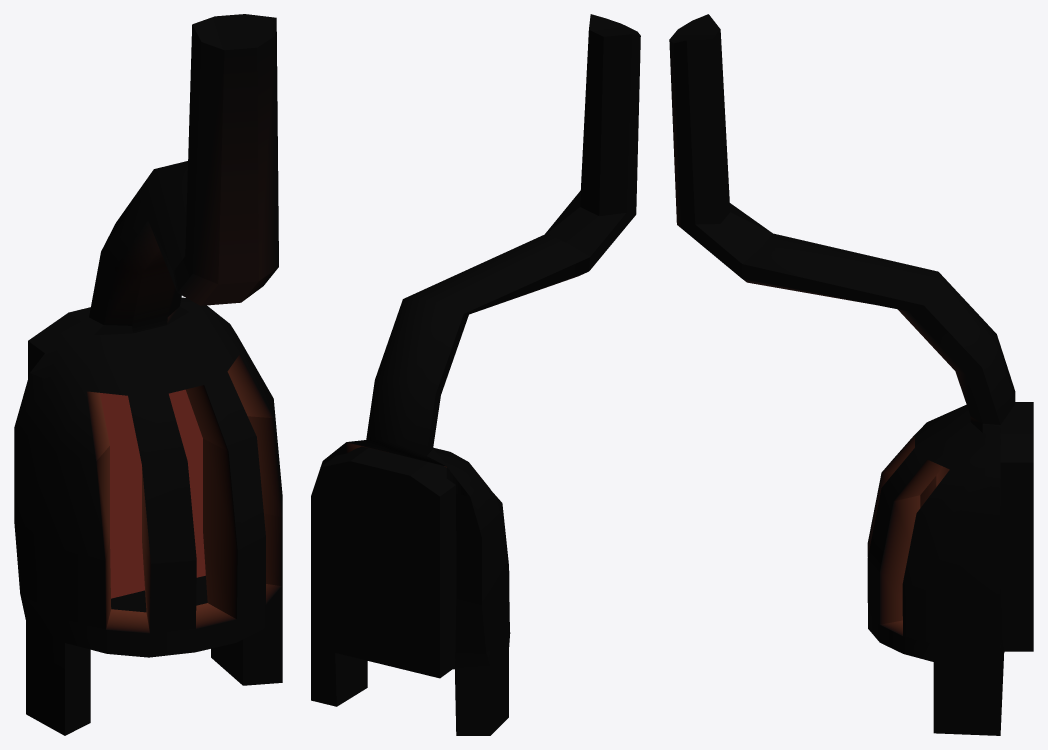
Rendered from fireplace01.fbx.
3 renders of one model, left to right at view 1: azimuth 30°, elevation 25°; view 2: azimuth 150°, elevation 25°; view 3: azimuth 270°, elevation 25°, orthographic. The views are drawn at different scales.
Parts seen in each view (by area): view 1: polySurface5; view 2: polySurface5; view 3: polySurface5.
Boxes of the visible parts, left/top/right/bottom form: polySurface5: left=14, top=14, right=282, bottom=735; polySurface5: left=311, top=14, right=640, bottom=735; polySurface5: left=669, top=14, right=1033, bottom=735.
Bounding box in the file's own units: 4.25 × 13.55 × 7.09.
